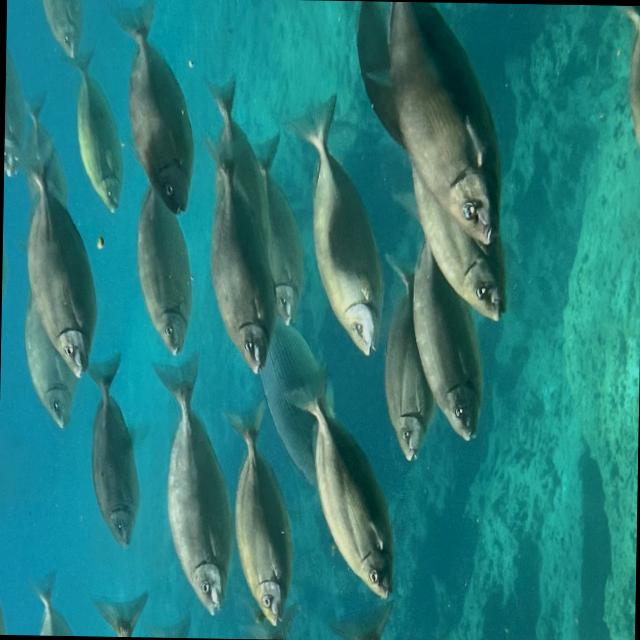Sokar Baligi: (269, 378, 405, 610), (276, 96, 393, 360), (128, 347, 222, 620)
